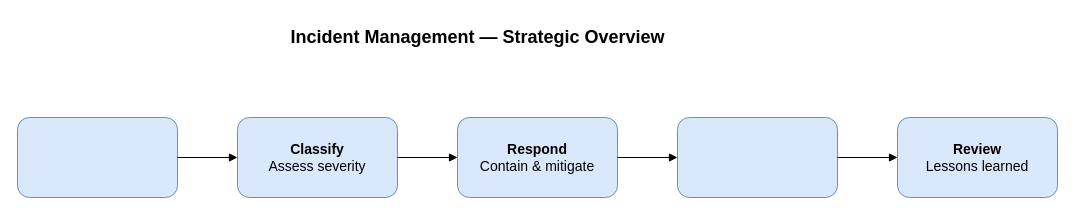
The diagram is 1075 pixels wide and 215 high, and some of its shapes have lost their labels. Here are the shapes that lost their labels. From the top down, the centre of each, then its label:
At (97,157): "Detect Identify incident".
At (757,157): "Recover Restore services".
